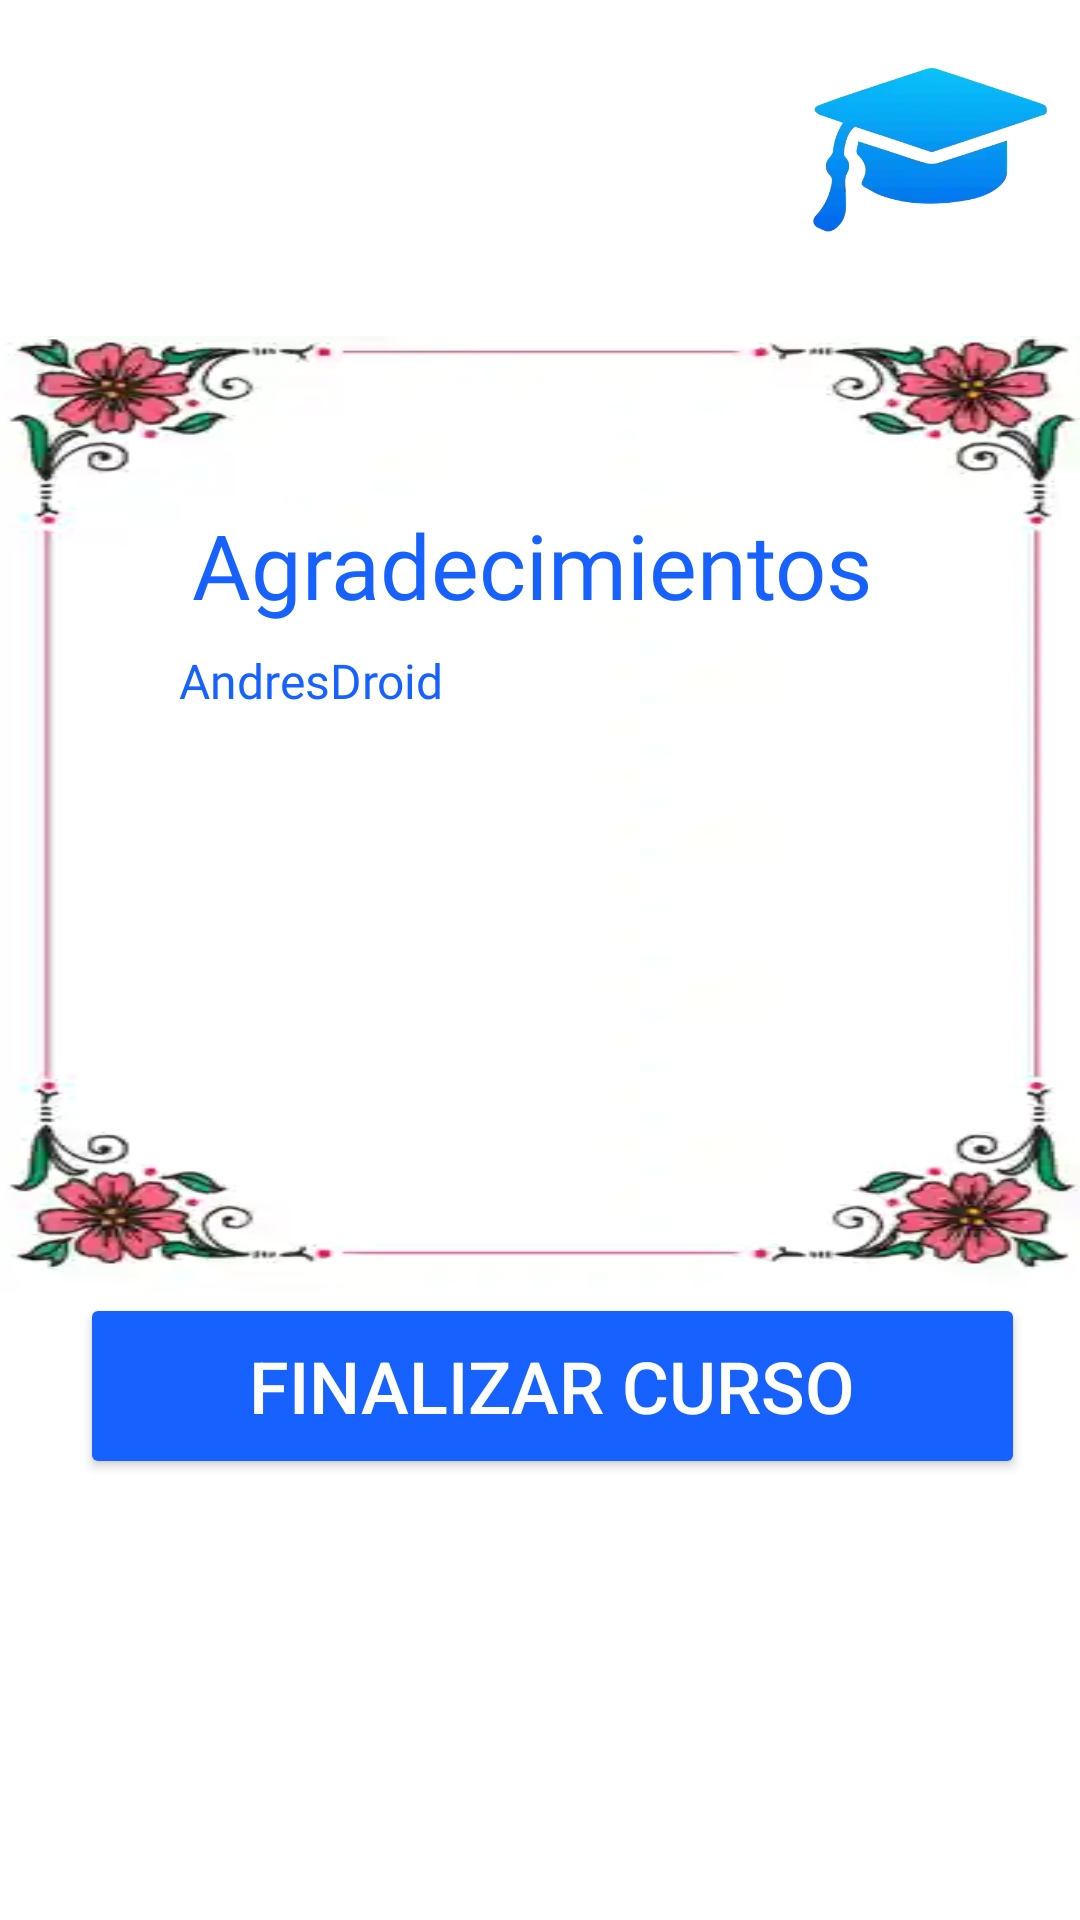

Named icons in this screenshot (1080 × 1920) and their centers, [x,y]:
graduado: [930,150]
